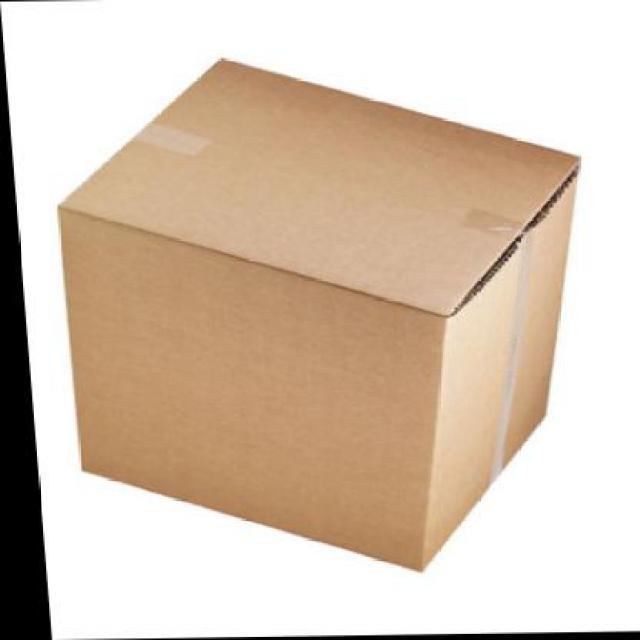box: (44, 56, 606, 578)
